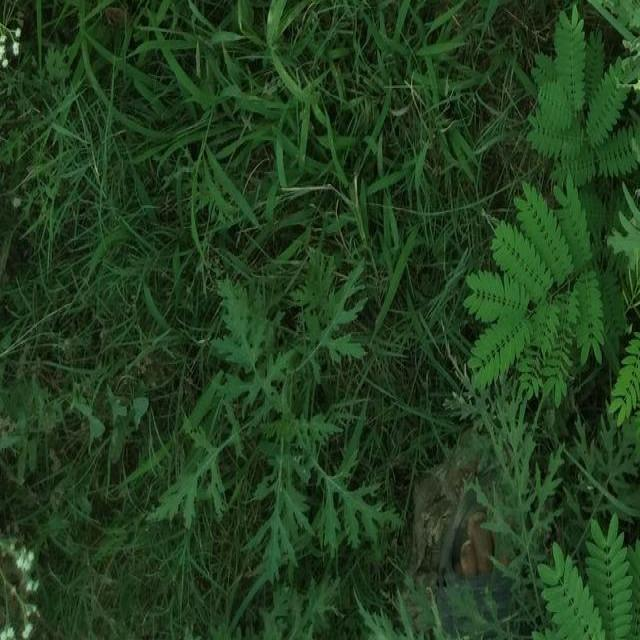weed: (82, 135, 412, 403)
